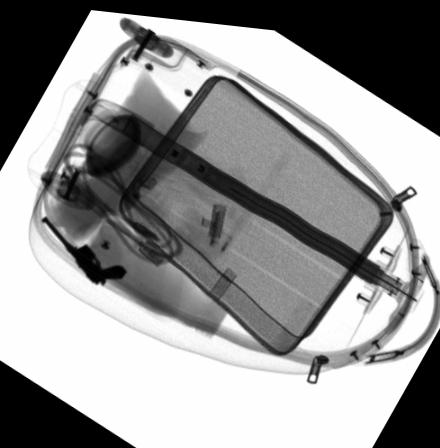Gun: (39, 214, 128, 282)
